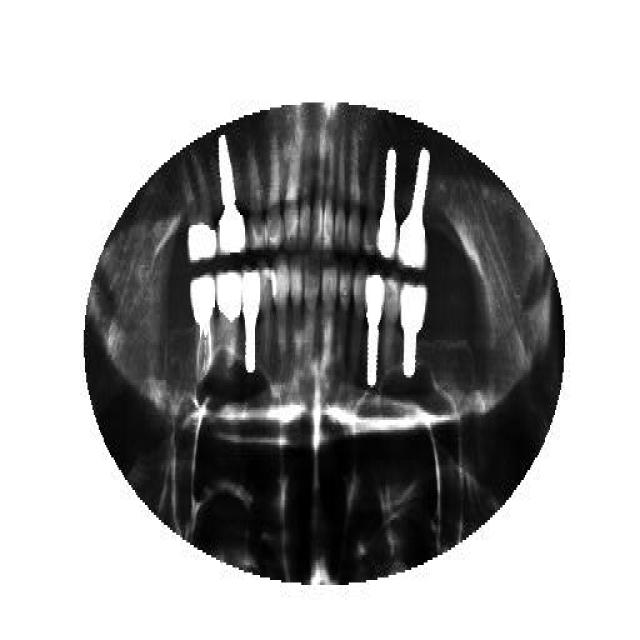Fillings: (182, 150, 220, 262), (218, 270, 242, 370)
Implant: (216, 135, 248, 253), (398, 150, 430, 268), (396, 285, 429, 383), (376, 135, 400, 265), (189, 275, 216, 380), (360, 278, 385, 388), (240, 272, 261, 380)
